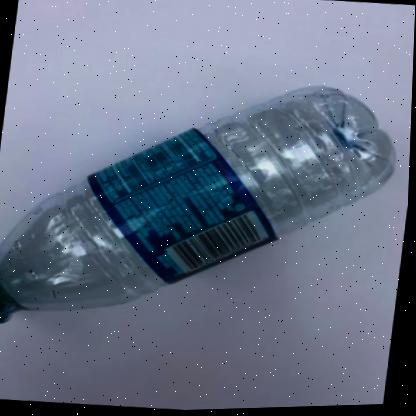Plastic: (0, 88, 394, 325)
